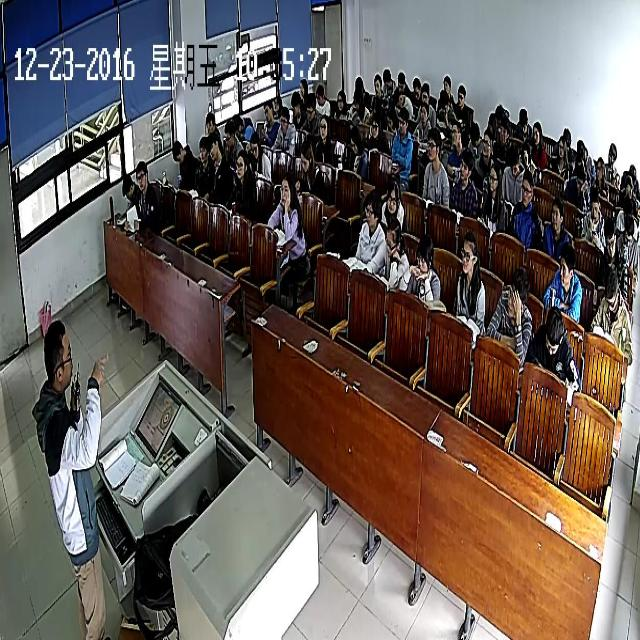person: (43, 318, 77, 391), (505, 269, 532, 321), (543, 301, 564, 356), (415, 231, 435, 280), (557, 242, 576, 290), (385, 213, 404, 260), (459, 232, 477, 276), (604, 265, 620, 312), (362, 190, 380, 231), (384, 175, 401, 213), (276, 171, 293, 206), (520, 168, 534, 208), (458, 146, 473, 183), (603, 216, 616, 257), (572, 162, 586, 199), (425, 127, 440, 161), (550, 197, 564, 230), (299, 138, 312, 173), (120, 171, 134, 203), (134, 160, 148, 192), (207, 128, 220, 162), (622, 216, 634, 252), (235, 147, 248, 180), (506, 144, 519, 177), (170, 136, 184, 166), (488, 162, 501, 194), (480, 128, 493, 157), (196, 134, 209, 162), (589, 187, 599, 221), (222, 120, 235, 146), (436, 86, 448, 114), (470, 116, 480, 148), (518, 102, 528, 134), (521, 139, 532, 168), (289, 90, 301, 116), (594, 153, 604, 184), (441, 68, 452, 96), (305, 92, 315, 122), (349, 126, 359, 156), (395, 66, 406, 93), (622, 191, 632, 220), (204, 109, 215, 135), (397, 107, 408, 133), (249, 130, 259, 158), (420, 78, 430, 106), (532, 118, 542, 146), (230, 112, 242, 135), (381, 65, 392, 90), (370, 111, 380, 138), (279, 105, 289, 131), (450, 119, 460, 145), (622, 171, 632, 197), (314, 80, 324, 105), (262, 97, 272, 121), (318, 114, 328, 138), (335, 87, 345, 111), (392, 84, 402, 108), (486, 110, 496, 134), (418, 100, 427, 125), (456, 80, 465, 105), (576, 136, 586, 158), (353, 87, 362, 111), (385, 103, 394, 127), (412, 75, 421, 99), (608, 139, 616, 166), (372, 71, 381, 94), (494, 100, 503, 123), (558, 133, 566, 157), (354, 73, 363, 94), (298, 74, 306, 96), (371, 94, 379, 116), (628, 160, 636, 182), (273, 92, 281, 112), (563, 125, 571, 145)
